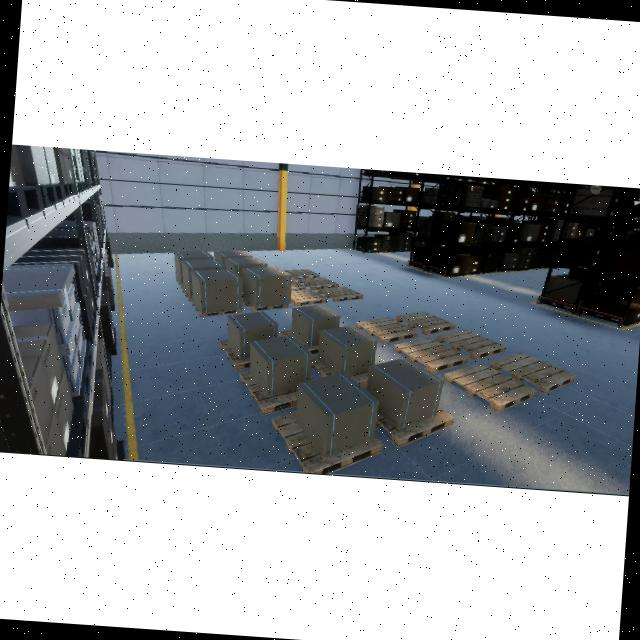wooden_pallet: (270, 412, 383, 475), (444, 362, 535, 412), (489, 352, 577, 393), (374, 405, 454, 446), (239, 371, 298, 417), (393, 337, 469, 371), (435, 327, 506, 359), (355, 316, 418, 343), (395, 310, 455, 334), (218, 340, 251, 370), (191, 300, 242, 316), (318, 286, 363, 302), (242, 296, 289, 311), (290, 288, 327, 305), (298, 276, 339, 290), (283, 268, 320, 279), (290, 278, 306, 291)
